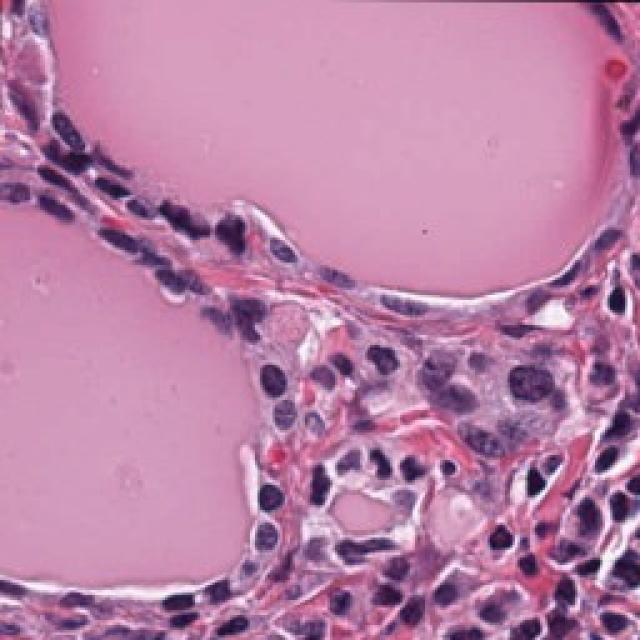normal: (229, 330, 299, 421), (228, 466, 310, 534), (29, 168, 99, 243), (371, 274, 449, 339), (235, 509, 302, 575), (137, 578, 209, 633), (250, 379, 306, 443), (102, 217, 151, 283)
